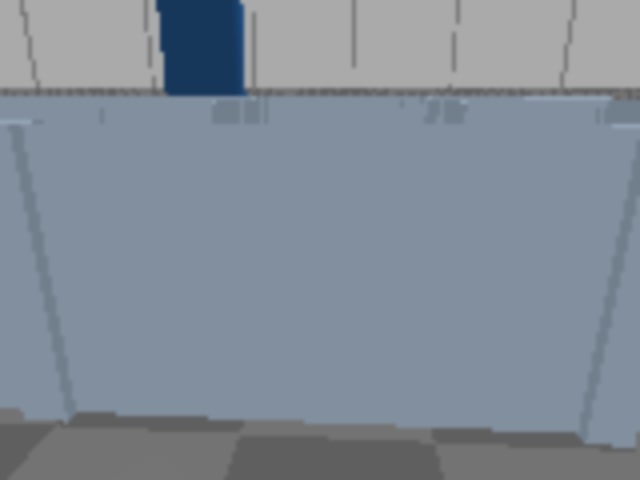obstacle: (0, 451, 254, 478)
